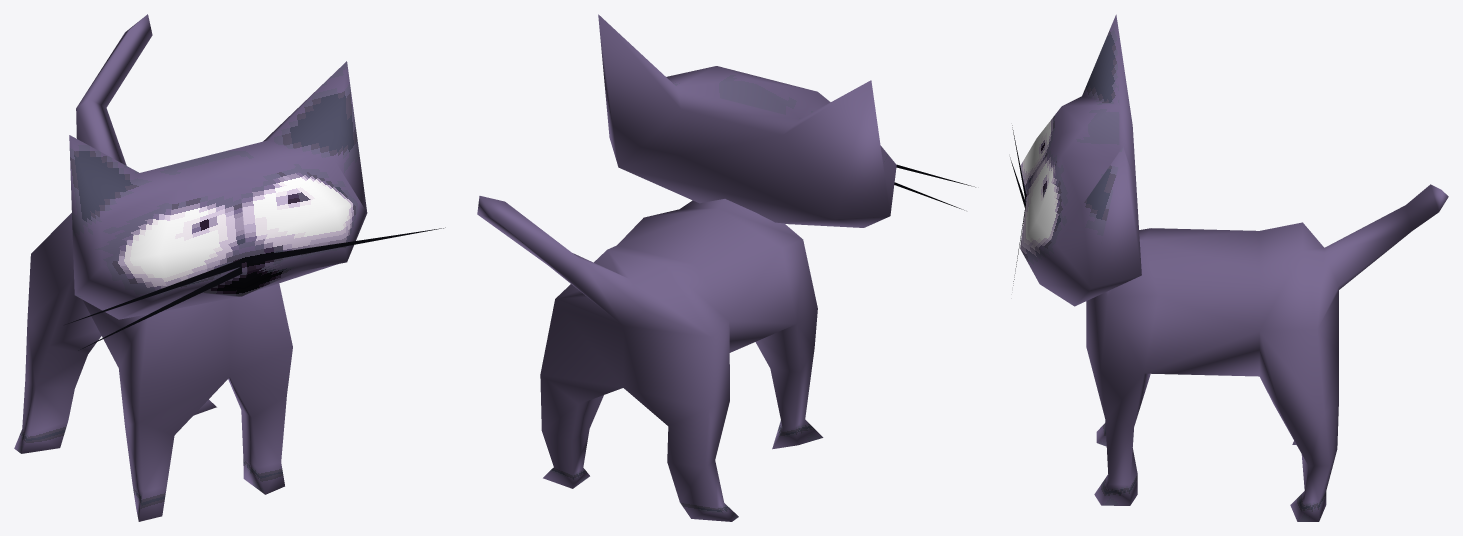
Rendered from gato.glb.
The picture shows the model from 3 angles, left to right: view 1: azimuth 30°, elevation 25°; view 2: azimuth 150°, elevation 25°; view 3: azimuth 270°, elevation 25°; orthographic projection. The views are drawn at different scales.
Parts seen in each view (by area): view 1: Shape_IndexedFaceSet.339; view 2: Shape_IndexedFaceSet.339; view 3: Shape_IndexedFaceSet.339.
Part boxes in pixels (x1,y1,x2,y2): Shape_IndexedFaceSet.339: (14, 14, 445, 521); Shape_IndexedFaceSet.339: (477, 14, 975, 521); Shape_IndexedFaceSet.339: (1010, 14, 1448, 521).
Bounding box in the file's own units: 0.4021 × 0.4021 × 0.4017.
1 material, 1 textured.
